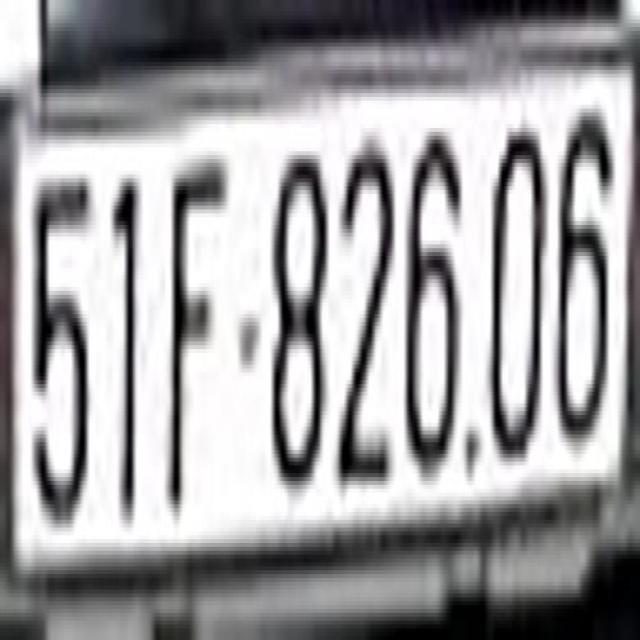0: (488, 128, 542, 470)
1: (108, 151, 142, 524)
2: (338, 147, 392, 489)
5: (29, 159, 92, 516)
6: (408, 124, 461, 473), (556, 109, 610, 438)
8: (272, 143, 326, 504)
F: (166, 136, 224, 500)
